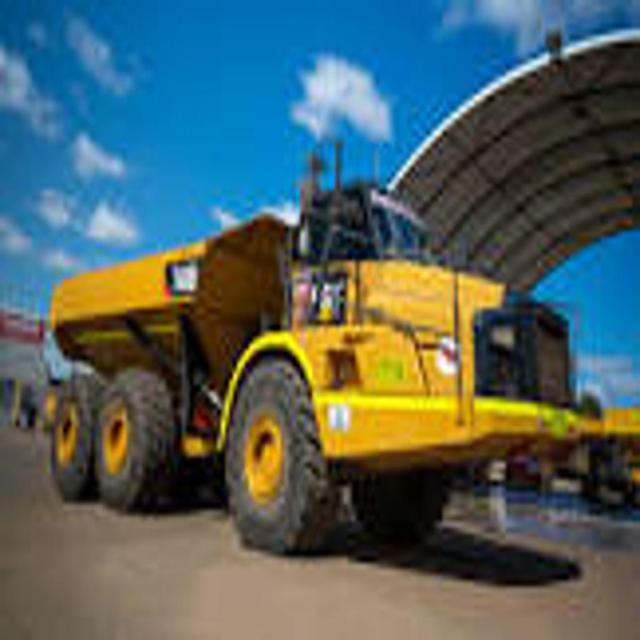dump_truck: (40, 160, 580, 566)
